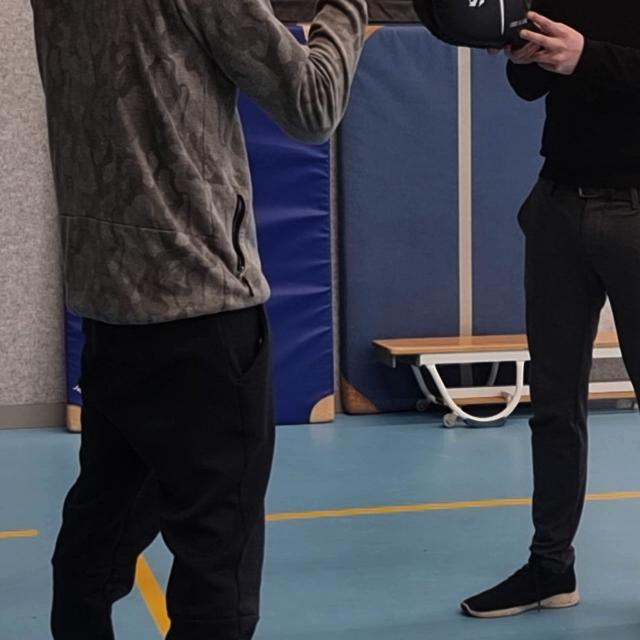paddle: (408, 0, 539, 50)
